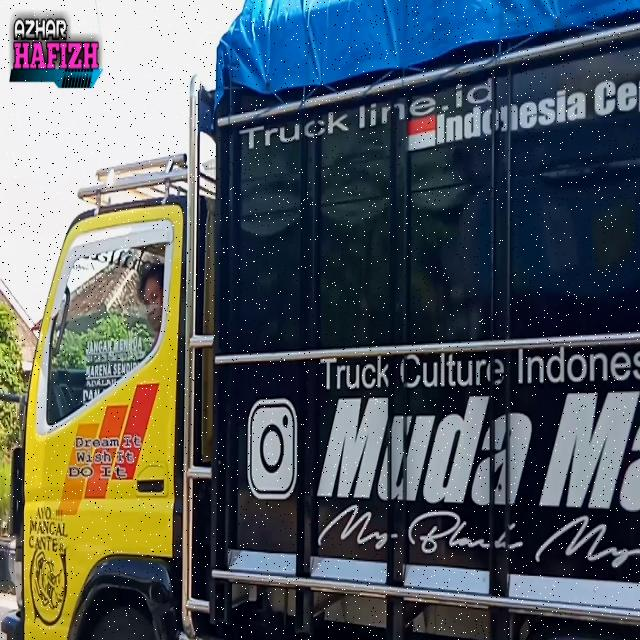truck: (16, 70, 640, 639)
